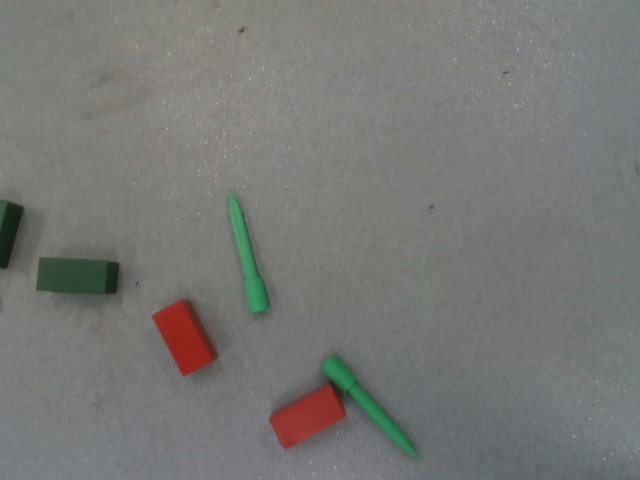Probe: (318, 353, 421, 461), (223, 187, 274, 316)
